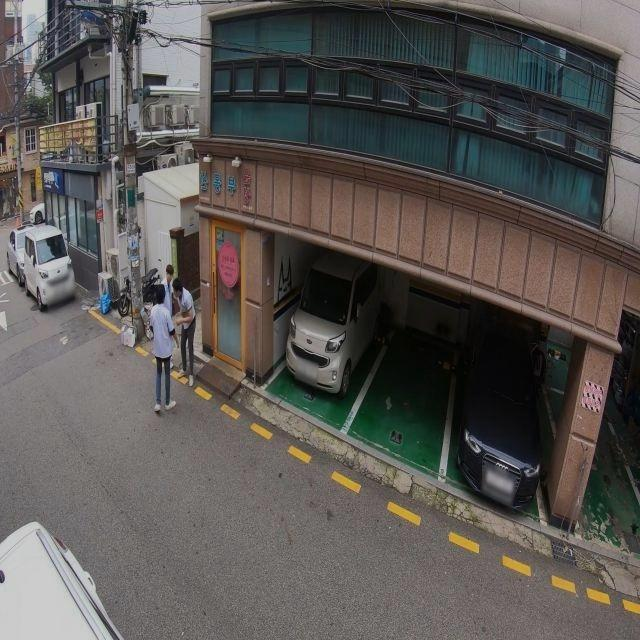non-fight: (146, 283, 179, 411), (170, 278, 200, 386), (161, 256, 180, 368)
